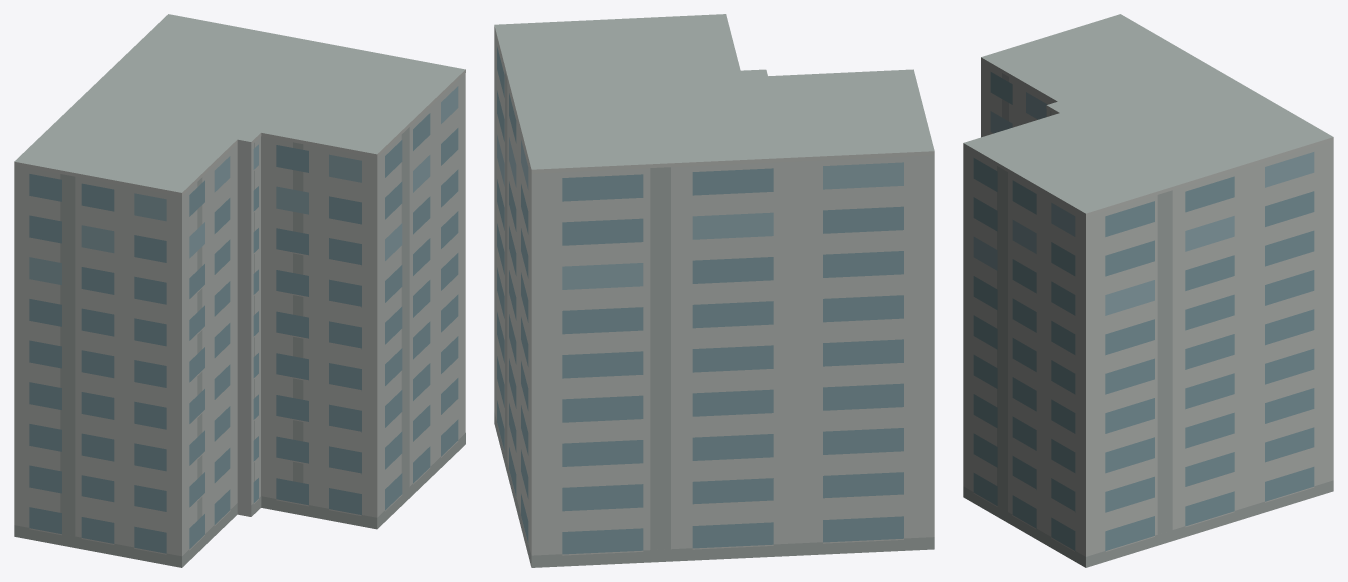
The model's file is residential-f9ee3ded-4324-4486-a891-d794c0be6933.glb.
3 views of the same model, side by side, from view 1: azimuth 30°, elevation 25°; view 2: azimuth 150°, elevation 25°; view 3: azimuth 270°, elevation 25° (orthographic). The views are drawn at different scales.
Parts seen in each view (by area): view 1: residential-f9ee3ded-4324-4486-a891-d794c0be6933.tmp; view 2: residential-f9ee3ded-4324-4486-a891-d794c0be6933.tmp; view 3: residential-f9ee3ded-4324-4486-a891-d794c0be6933.tmp.
Part boxes in pixels (bbox=[...]): residential-f9ee3ded-4324-4486-a891-d794c0be6933.tmp: bbox=[14, 14, 465, 567]; residential-f9ee3ded-4324-4486-a891-d794c0be6933.tmp: bbox=[494, 14, 934, 567]; residential-f9ee3ded-4324-4486-a891-d794c0be6933.tmp: bbox=[963, 14, 1333, 567].
Size of the model in its own units: 30.47 by 25.2 by 23.89.
